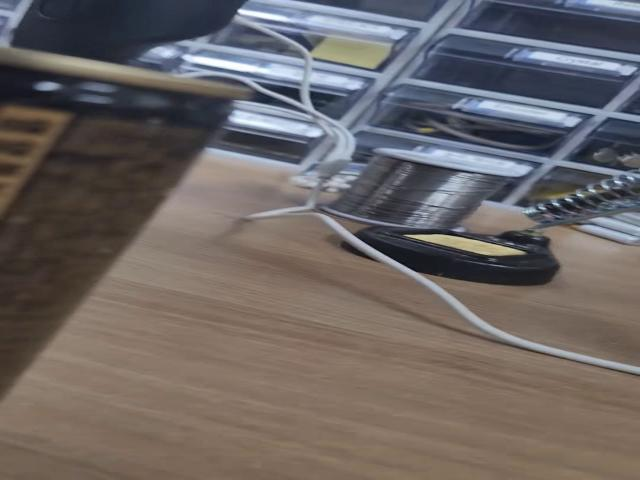Canned_drinks: (0, 51, 255, 429)
